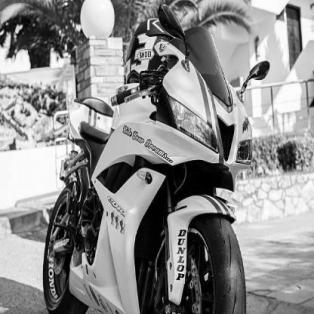Motocicleta: (41, 14, 262, 314)
